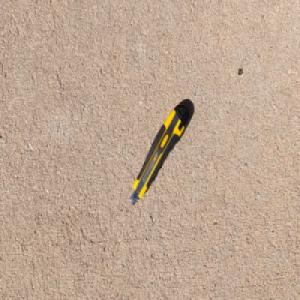Cutter: (129, 101, 191, 206)
